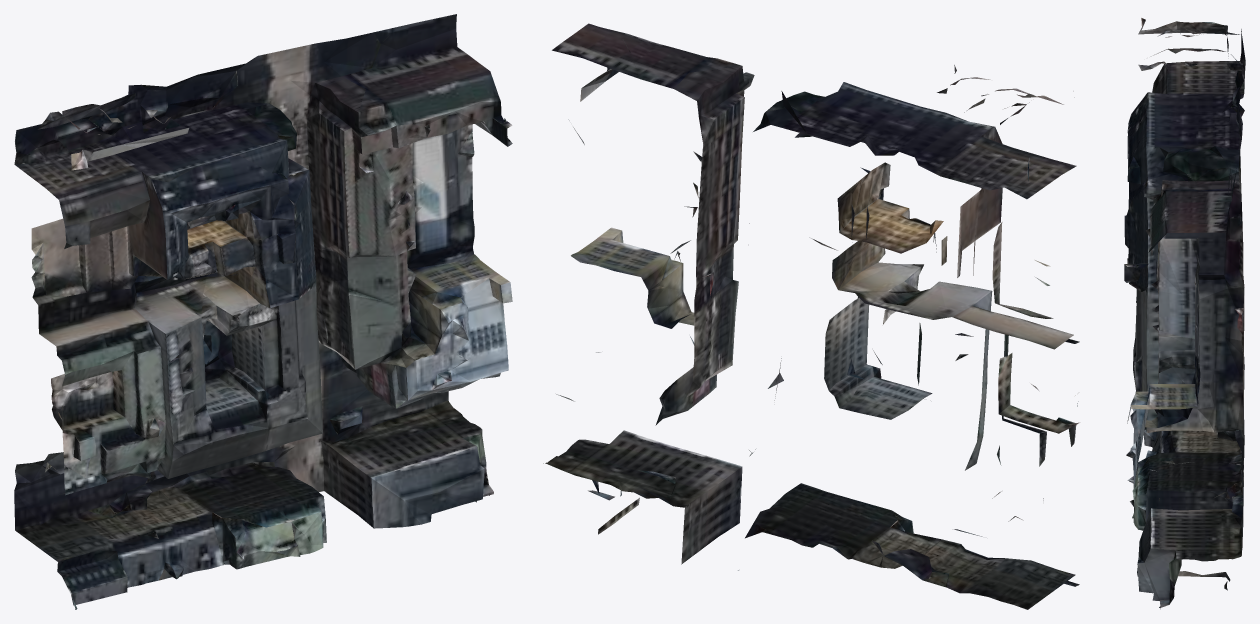
The model's file is Tile_+035_+020_L17_0002.glb.
The picture shows the model from 3 angles, left to right: view 1: azimuth 30°, elevation 25°; view 2: azimuth 150°, elevation 25°; view 3: azimuth 270°, elevation 25°; orthographic projection. The views are drawn at different scales.
Size of the model in its own units: 126 by 126 by 34.14.
Materials: 1 (1 with a texture image).
